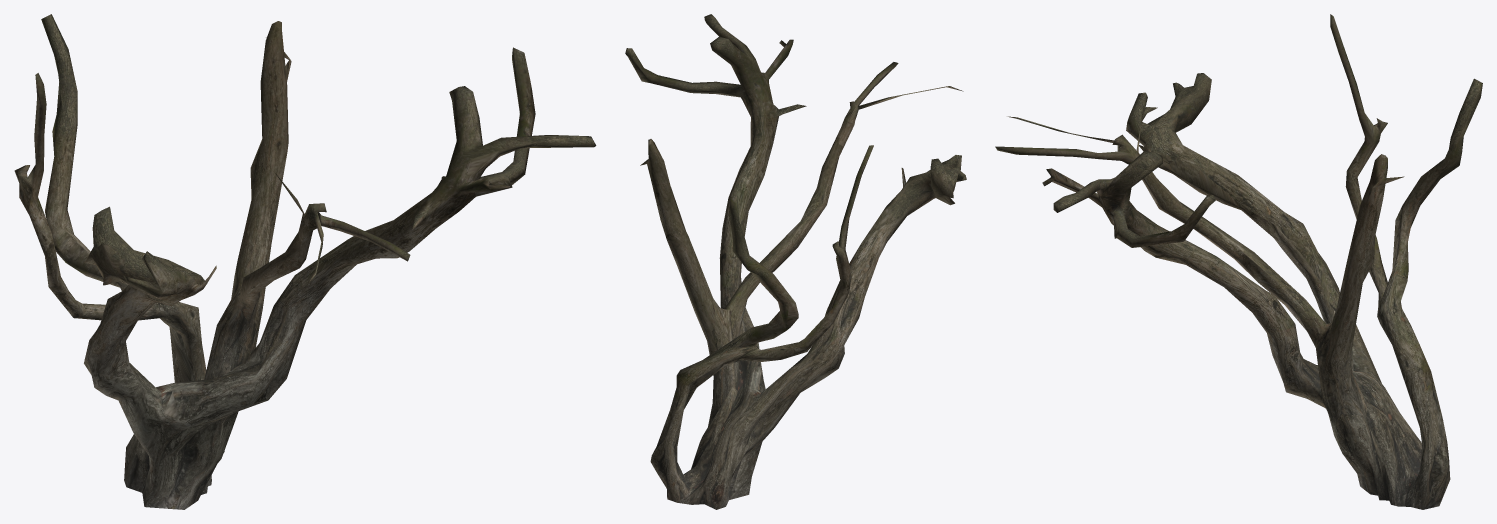
The model's file is island_tree_02-simplified.fbx.
The picture shows the model from 3 angles, left to right: view 1: azimuth 30°, elevation 25°; view 2: azimuth 150°, elevation 25°; view 3: azimuth 270°, elevation 25°; orthographic projection. The views are drawn at different scales.
Parts seen in each view (by area): view 1: island_tree_02; view 2: island_tree_02; view 3: island_tree_02.
Part boxes in pixels (left/top/right/bottom): island_tree_02: left=14, top=14, right=596, bottom=509; island_tree_02: left=625, top=14, right=966, bottom=509; island_tree_02: left=995, top=14, right=1482, bottom=509.
Bounding box in the file's own units: 236 × 249 × 272.
